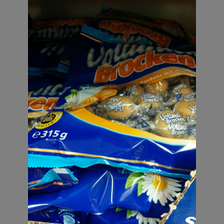candy: (30, 36, 194, 171)
